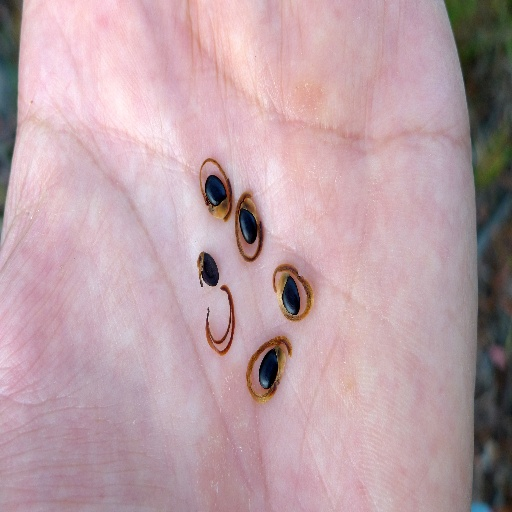hand: (0, 0, 488, 511)
